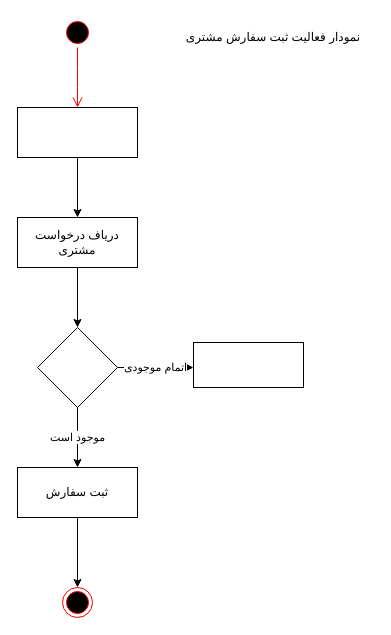
Image size: 391x635. Some labels were removed from this diagram. Each missing label, with the centre of its shape:
"درخواست مشتری" belongs at (x=77, y=132).
"ذخیره سفارش" belongs at (x=248, y=365).
